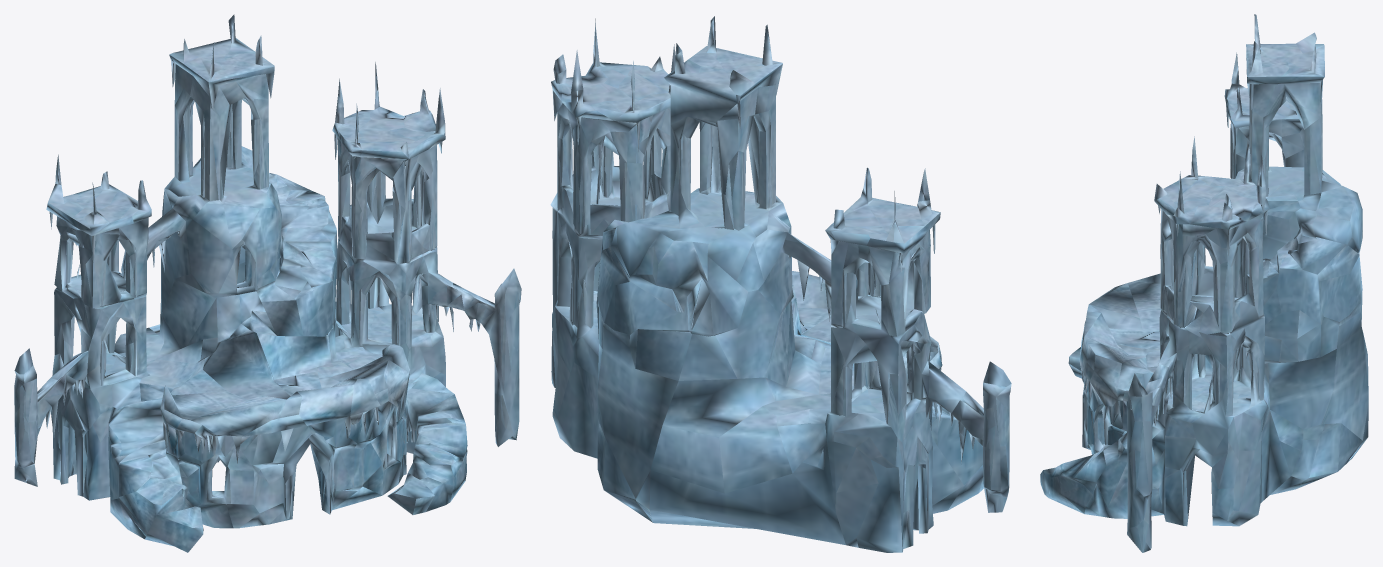
Rendered from ice_castle.glb.
3 views of the same model, side by side, from view 1: azimuth 30°, elevation 25°; view 2: azimuth 150°, elevation 25°; view 3: azimuth 270°, elevation 25° (orthographic). The views are drawn at different scales.
Visible parts, largest first — view 1: ice_castle; view 2: ice_castle; view 3: ice_castle.
Boxes of the visible parts, x1,y1,x2,y2 form: ice_castle: [14, 14, 521, 552]; ice_castle: [550, 16, 1011, 552]; ice_castle: [1040, 14, 1368, 552].
Size of the model in its own units: 1.89 by 1.66 by 1.18.
1 material, 1 textured.
